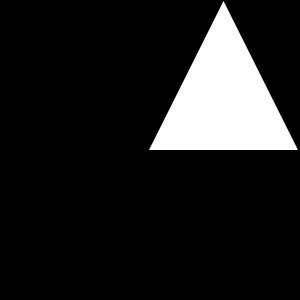triangle: (149, 1, 298, 150), (176, 62, 255, 141), (195, 9, 259, 73)
